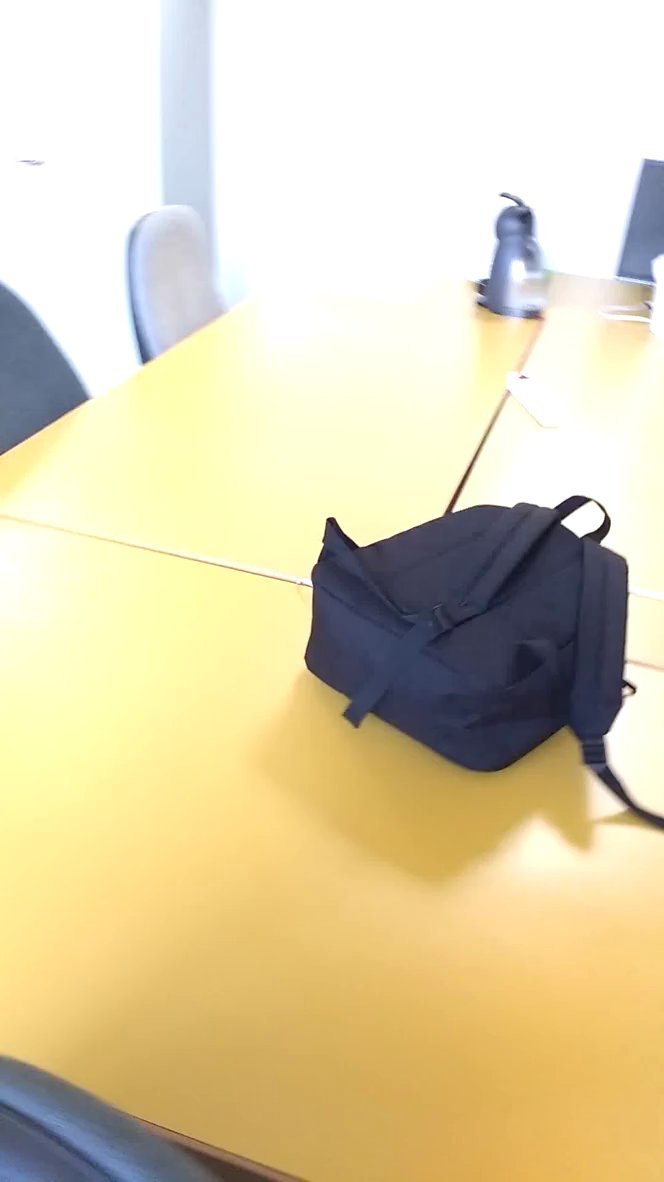bag: (295, 483, 664, 852)
chair: (116, 197, 253, 376)
